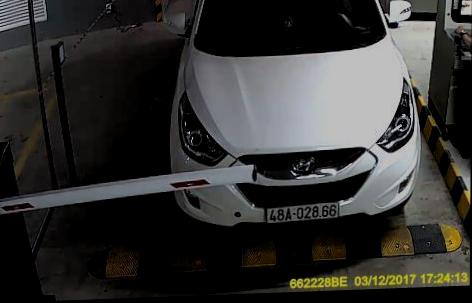License_Plate: (263, 192, 343, 224)
